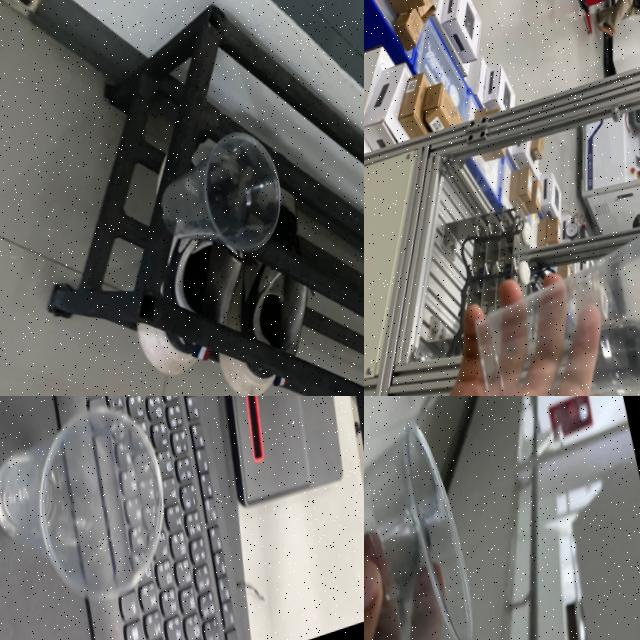glass: (0, 396, 195, 640), (455, 210, 640, 396), (364, 400, 503, 640), (133, 118, 304, 295)
